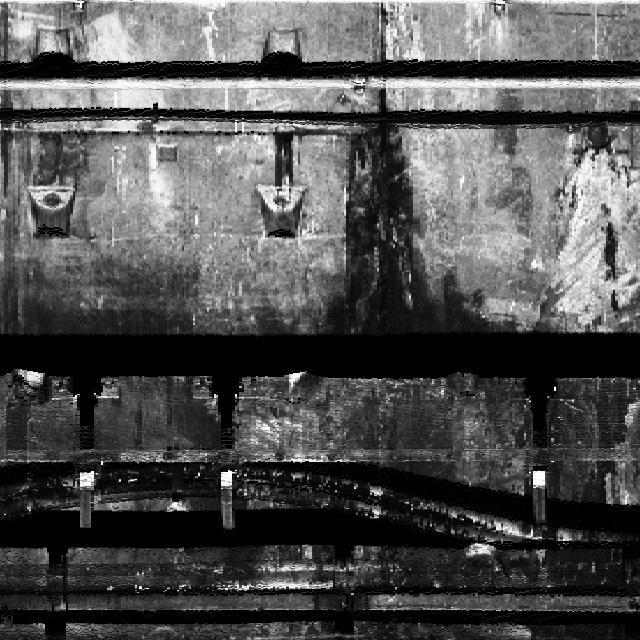leakage: (314, 92, 517, 340)
